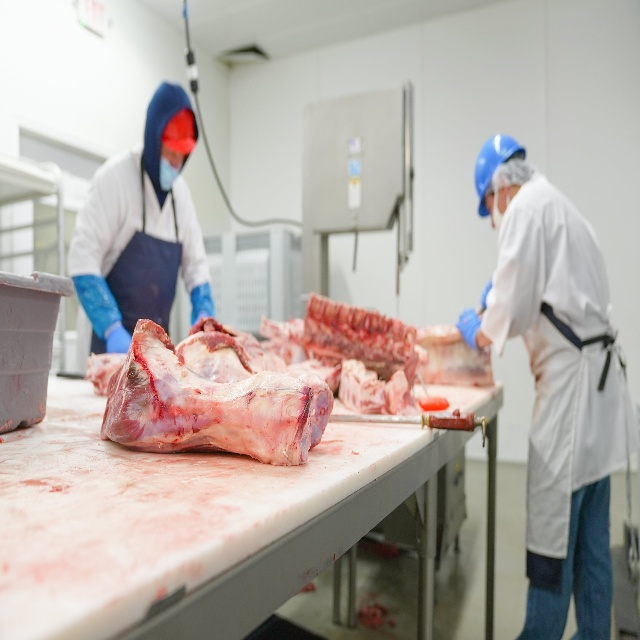Guantes: (188, 283, 213, 327), (455, 305, 479, 347), (105, 325, 132, 353)
